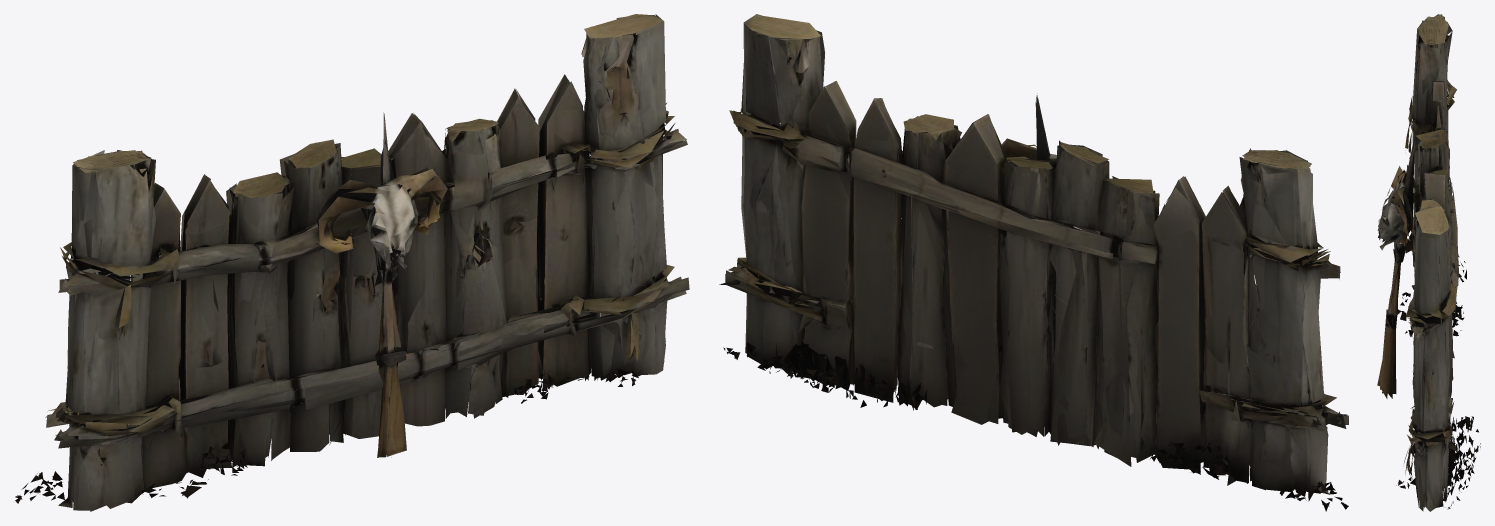
The model's file is goblin_palisade_b.glb.
3 renders of one model, left to right at view 1: azimuth 30°, elevation 25°; view 2: azimuth 150°, elevation 25°; view 3: azimuth 270°, elevation 25°, orthographic. The views are drawn at different scales.
Parts seen in each view (by area): view 1: goblin_palisade_b; view 2: goblin_palisade_b; view 3: goblin_palisade_b.
Boxes of the visible parts, box(x1,y1,x2,y2) form: goblin_palisade_b: box(15, 14, 689, 511); goblin_palisade_b: box(719, 14, 1348, 511); goblin_palisade_b: box(1377, 14, 1480, 511).
Size of the model in its own units: 5.19 by 2.69 by 0.8914.
Materials: 1 (1 with a texture image).
